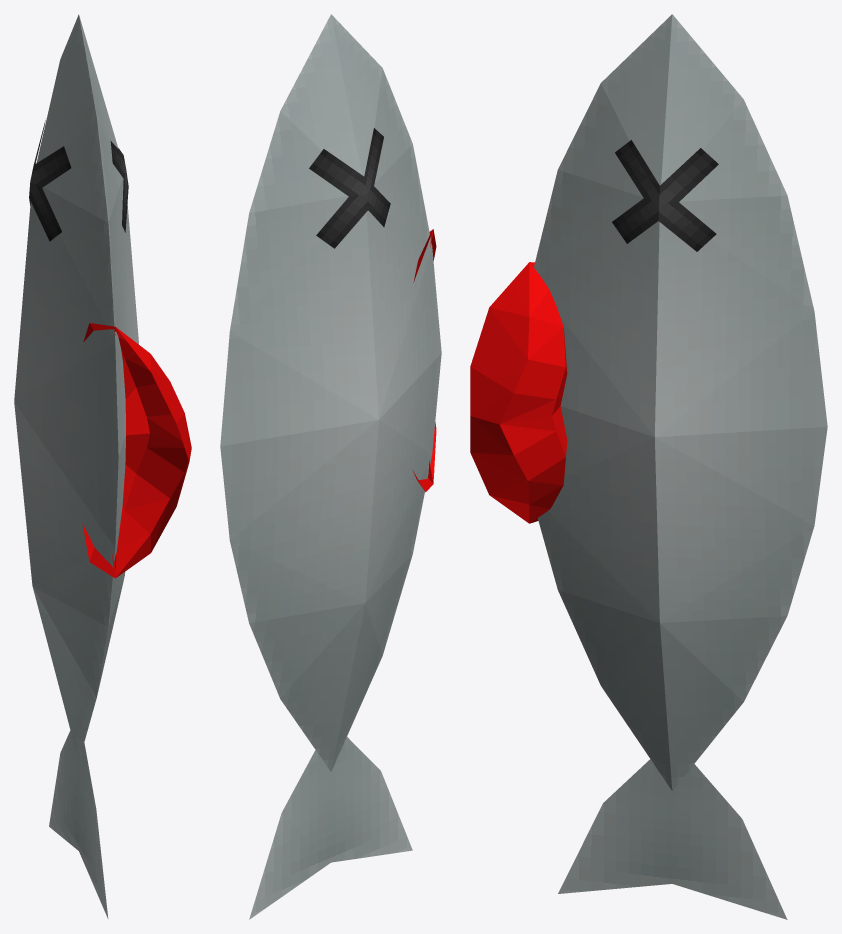
Rendered from acce662.obj.
3 renders of one model, left to right at view 1: azimuth 30°, elevation 25°; view 2: azimuth 150°, elevation 25°; view 3: azimuth 270°, elevation 25°, orthographic. The views are drawn at different scales.
Visible parts, largest first — view 1: acce662; view 2: acce662; view 3: acce662.
Boxes of the visible parts, left/top/right/bottom form: acce662: left=14, top=14, right=191, bottom=918; acce662: left=220, top=14, right=441, bottom=919; acce662: left=470, top=14, right=827, bottom=919.
Bounding box in the file's own units: 0.0329 × 0.2432 × 0.0882.
2 materials, 1 textured.
